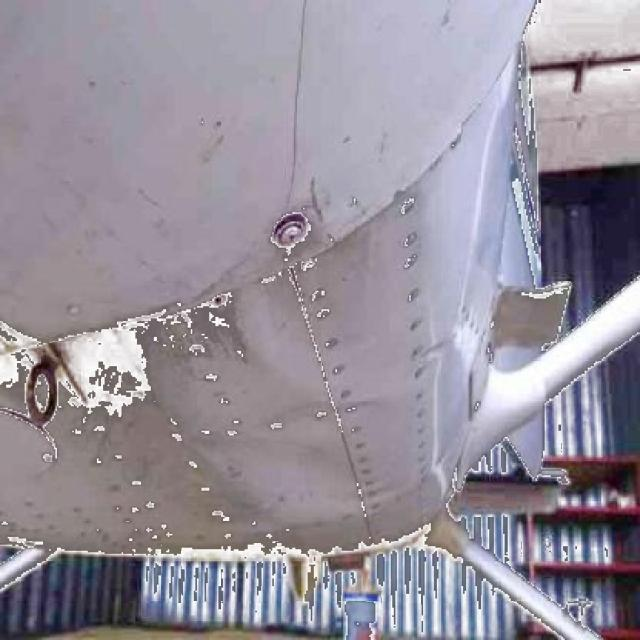dent: (235, 262, 371, 401), (204, 428, 359, 517)
